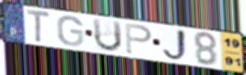8: (192, 31, 220, 67)
G: (55, 15, 85, 47)
J: (160, 28, 190, 63)
P: (124, 22, 154, 56)
T: (25, 8, 52, 45)
U: (91, 18, 124, 54)
